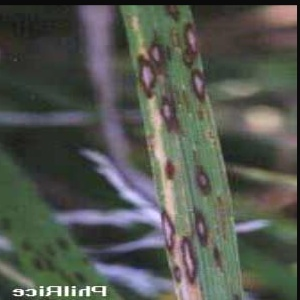Brown_Spot: (181, 65, 215, 109), (188, 149, 216, 202), (186, 208, 223, 246), (152, 203, 180, 250), (151, 94, 182, 136), (179, 233, 201, 290), (181, 19, 202, 65), (137, 52, 157, 96), (147, 34, 172, 64)
